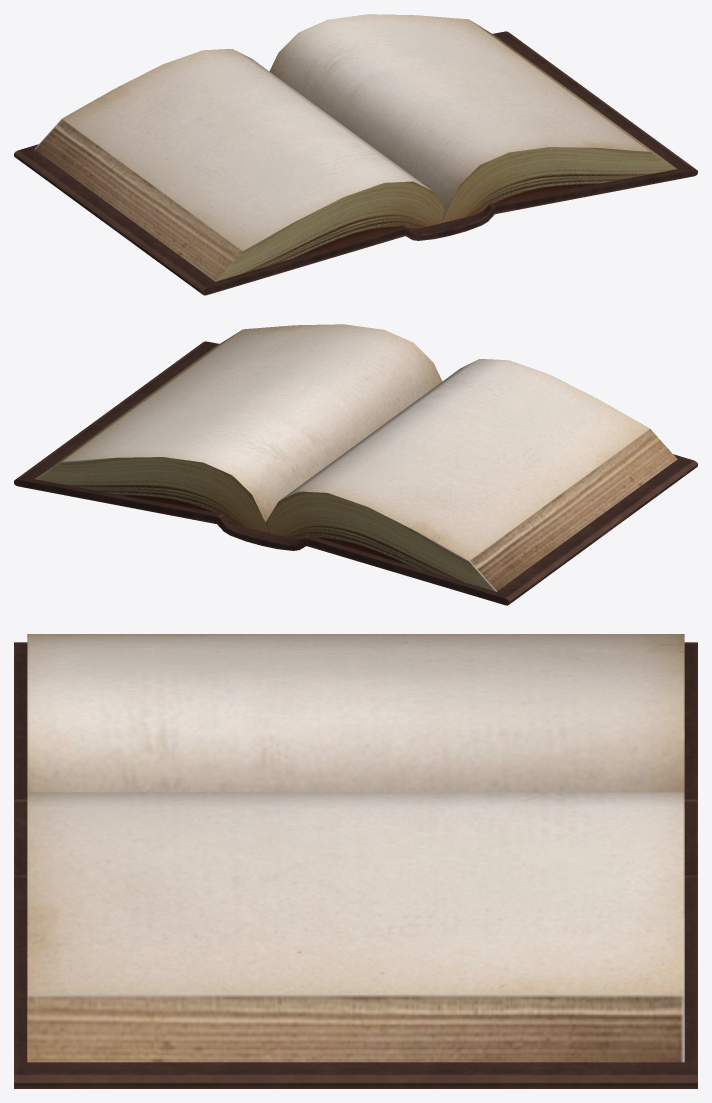
The model's file is z1_libro.obj.
The picture shows the model from 3 angles, top to bottom: view 1: azimuth 30°, elevation 25°; view 2: azimuth 150°, elevation 25°; view 3: azimuth 270°, elevation 25°; orthographic projection. The views are drawn at different scales.
Parts seen in each view (by area): view 1: book_open_low; view 2: book_open_low; view 3: book_open_low.
Part boxes in pixels (box(x1,y1,x2,y2)): book_open_low: box(14, 14, 697, 295); book_open_low: box(14, 324, 697, 605); book_open_low: box(14, 634, 697, 1088).
Size of the model in its own units: 0.32 by 0.0404 by 0.2109.
1 material, 1 textured.
